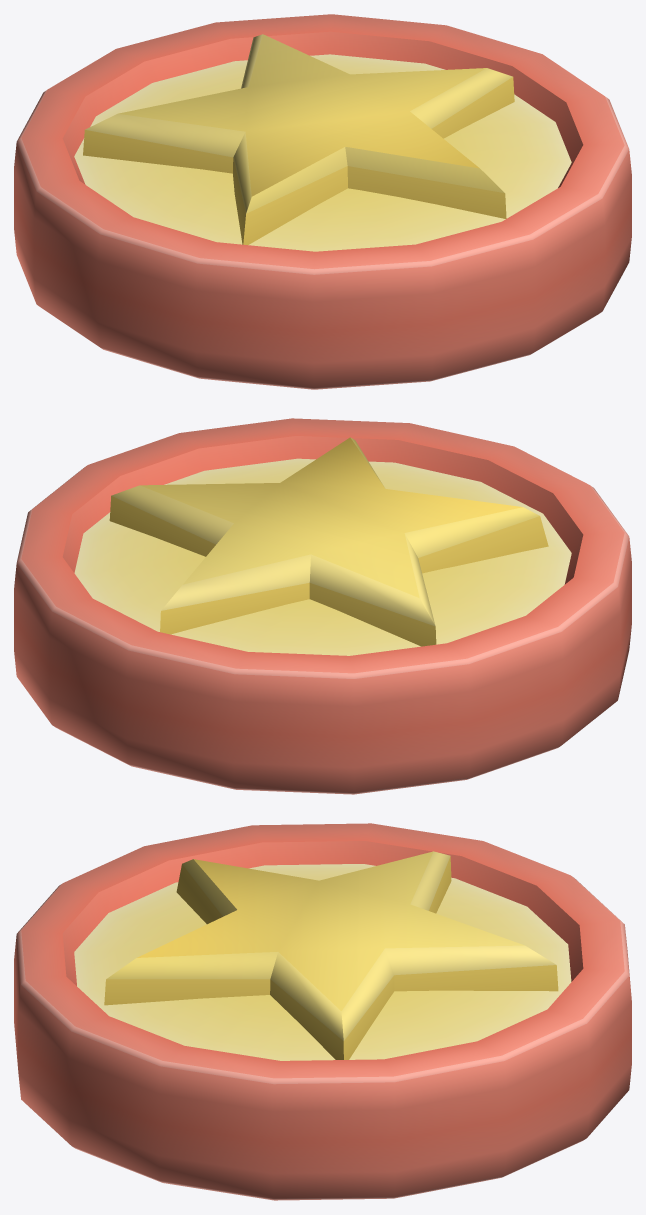
The model's file is gacha coin.fbx.
The picture shows the model from 3 angles, top to bottom: view 1: azimuth 30°, elevation 25°; view 2: azimuth 150°, elevation 25°; view 3: azimuth 270°, elevation 25°; orthographic projection.
Parts seen in each view (by area): view 1: gacha_coin; view 2: gacha_coin; view 3: gacha_coin.
Part boxes in pixels (x1,y1,x2,y2): gacha_coin: (14, 14, 631, 389); gacha_coin: (14, 418, 631, 794); gacha_coin: (14, 823, 631, 1200).
Size of the model in its own units: 70.29 by 23.21 by 70.29.
